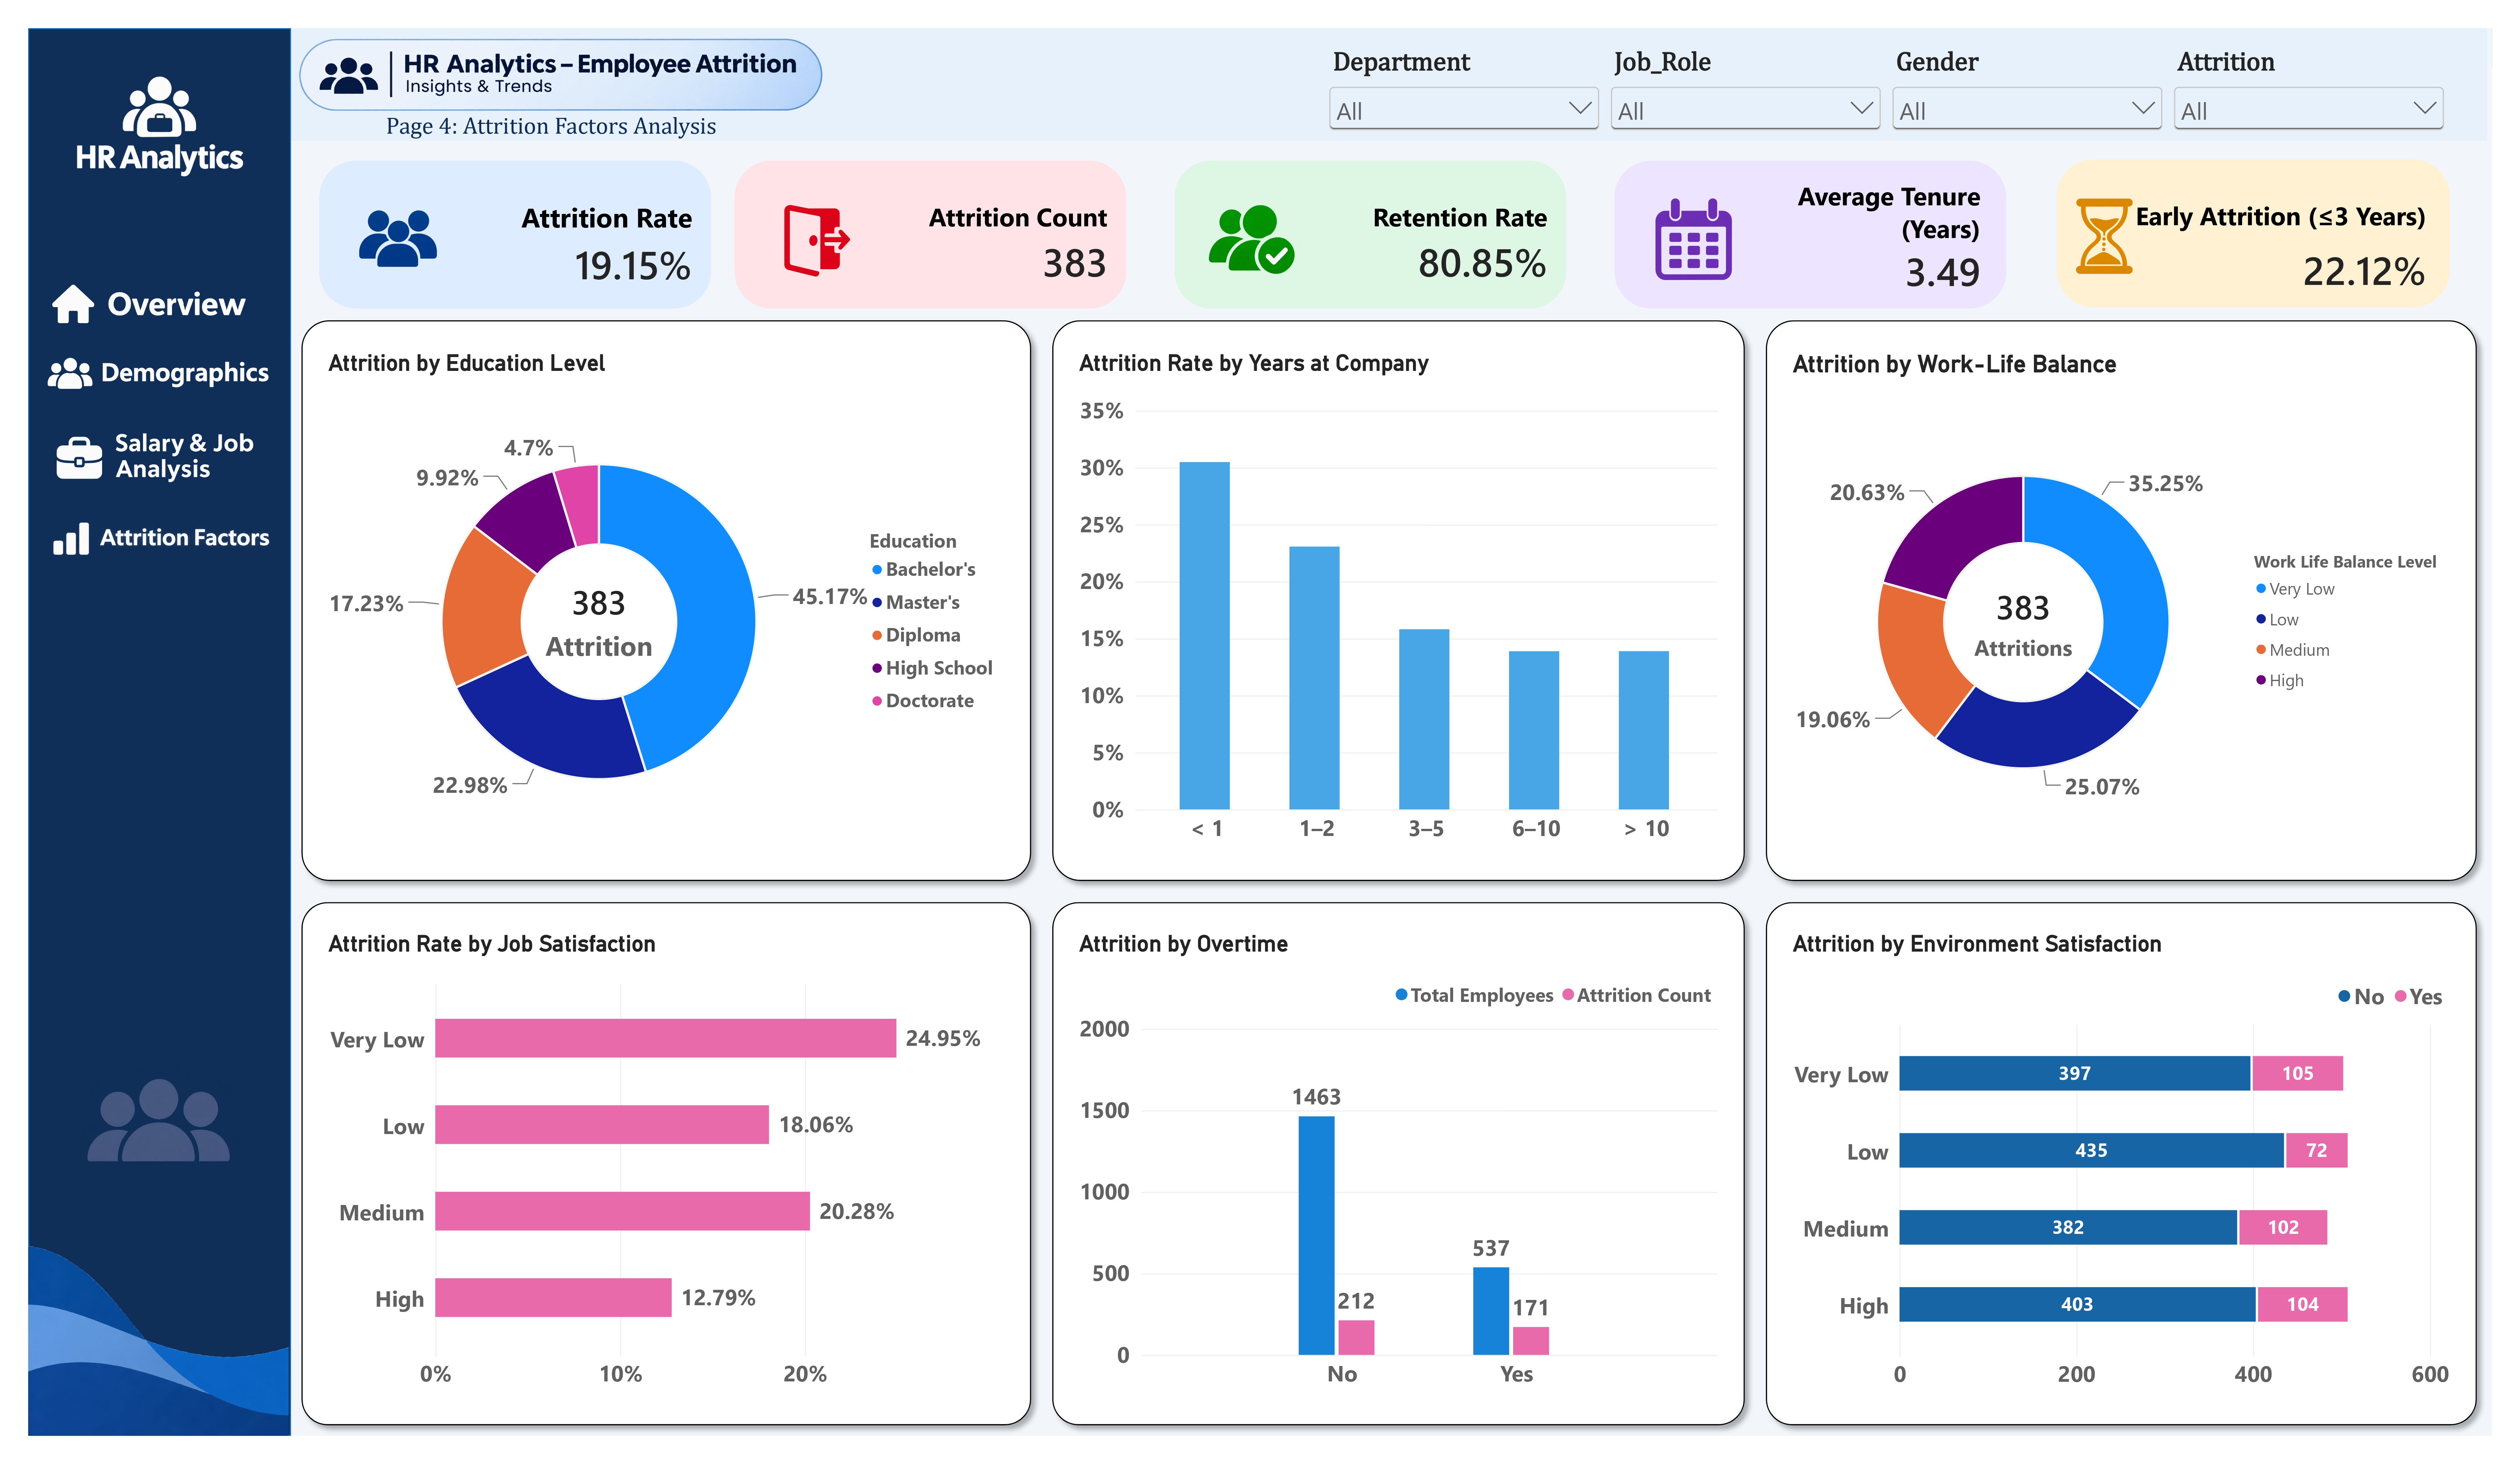

The page's visual inventory and layout, read from the dashboard file:
{"tool":"powerbi","page":{"name":"Attrition Factors","canvas":[2100,1200],"ordinal":3},"visuals":[{"type":"shape","box":[0,0,224,1200],"z":0,"group":"g1"},{"type":"shape","box":[224,0,1872,96],"z":0},{"type":"shape","box":[1729.8,112,334.3,126],"z":0,"group":"g14"},{"type":"shape","box":[247.9,113,334.3,126],"z":0,"group":"g5"},{"type":"shape","box":[602.1,113,334.3,126],"z":0,"group":"g8"},{"type":"shape","box":[977.2,113,334.3,126],"z":0,"group":"g10"},{"type":"shape","box":[1352.3,113,334.3,126],"z":0,"group":"g12"},{"type":"image","box":[0,200,222.5,70],"z":0,"group":"g7"},{"type":"image","box":[0,0,224,160],"z":1000,"group":"g1"},{"type":"image","box":[226,4,456,72],"z":1000},{"type":"cardVisual","fields":{"Data":["HR_Employee_Data.Average Years at Company"]},"box":[1408.4,113,272,127],"z":1000,"group":"g12"},{"type":"cardVisual","fields":{"Data":["HR_Employee_Data.Early Tenure Attrition Rate"]},"box":[1726.7,130,333.4,90],"z":1000,"group":"g14"},{"type":"cardVisual","fields":{"Data":["HR_Employee_Data.Attrition Rate"]},"box":[319.5,131,262.6,90],"z":1000,"group":"g5"},{"type":"cardVisual","fields":{"Data":["HR_Employee_Data.Attrition Count"]},"box":[673.7,131,262.6,90],"z":1000,"group":"g8"},{"type":"cardVisual","fields":{"Data":["HR_Employee_Data.Retention Rate"]},"box":[1024.9,131,286.5,90],"z":1000,"group":"g10"},{"type":"image","box":[0,260,222.5,70],"z":1000,"group":"g7"},{"type":"textbox","title":"Page 4: Attrition Factors Analysis","box":[305,73,300,24],"z":2000},{"type":"image","box":[224,129,183,100],"z":2000,"group":"g5"},{"type":"image","box":[578.2,129,188,100],"z":2000,"group":"g8"},{"type":"image","box":[953.3,129,183,100],"z":2000,"group":"g10"},{"type":"image","box":[1328.4,129,183,100],"z":2000,"group":"g12"},{"type":"image","box":[1691.4,130.1,159.2,90.7],"z":2000,"group":"g14"},{"type":"image","box":[0,330,222.5,70],"z":2000,"group":"g7"},{"type":"image","box":[0,848,224,160],"z":2000,"group":"g1"},{"type":"group","id":"g1","title":"Group 2","box":[0,0,224,1208],"z":3000},{"type":"slicer","fields":{"Values":["HR_Employee_Data.Department"]},"box":[1104,16,240,96],"z":3000,"group":"g3"},{"type":"image","box":[0,400,222.5,70],"z":3000,"group":"g7"},{"type":"image","box":[0,912,222,296],"z":3000,"group":"g1"},{"type":"slicer","fields":{"Values":["HR_Employee_Data.Job_Role"]},"box":[1344,16,240,96],"z":4000,"group":"g3"},{"type":"group","id":"g2","title":"Group 6","box":[224,112,1840,128],"z":4000},{"type":"group","id":"g3","title":"Group 9","box":[1104,16,960,96],"z":5000},{"type":"slicer","fields":{"Values":["HR_Employee_Data.Gender"]},"box":[1584,16,240,96],"z":5000,"group":"g3"},{"type":"shape","box":[224,240,640,496],"z":5500,"group":"g9"},{"type":"shape","box":[864,240,608,496],"z":5500,"group":"g11"},{"type":"shape","box":[224,736,640,464],"z":5500,"group":"g13"},{"type":"shape","box":[864,736,608,464],"z":5500,"group":"g15"},{"type":"slicer","fields":{"Values":["HR_Employee_Data.Attrition"]},"box":[1824,16,240,96],"z":6000,"group":"g3"},{"type":"donutChart","title":"Attrition by Education Level","fields":{"Category":["HR_Employee_Data.Education"],"Y":["HR_Employee_Data.Attrition Count"]},"box":[240,259.8,608,456.3],"z":6000,"group":"g9"},{"type":"group","id":"g4","title":"Group 7","box":[224,736,1872,464],"z":6000},{"type":"shape","box":[1472,736,624,464],"z":6000,"group":"g16"},{"type":"clusteredBarChart","title":"Attrition Rate by Job Satisfaction","fields":{"Category":["HR_Employee_Data.Job Satisfaction Level"],"Y":["HR_Employee_Data.Attrition Rate"]},"box":[240,754.6,608,426.9],"z":6000,"group":"g13"},{"type":"clusteredColumnChart","title":"Attrition Rate by Years at Company","fields":{"Category":["HR_Employee_Data.Tenure Group"],"Y":["HR_Employee_Data.Attrition Rate"]},"box":[880,259.8,576,456.3],"z":6002,"group":"g11"},{"type":"clusteredColumnChart","title":"Attrition by Overtime","fields":{"Category":["HR_Employee_Data.Overtime"],"Y":["HR_Employee_Data.Total Employees","HR_Employee_Data.Attrition Count"]},"box":[880,754.6,576,426.9],"z":6002,"group":"g15"},{"type":"group","id":"g5","title":"Group 1","box":[224,113,358.1,126],"z":7000,"group":"g2"},{"type":"group","id":"g6","title":"Group 10","box":[224,240,1872,496],"z":7000},{"type":"shape","box":[1472,240,624,496],"z":7000,"group":"g17"},{"type":"group","id":"g7","title":"Group 10","box":[0,200,222.5,270],"z":7001},{"type":"group","id":"g8","title":"Group 1","box":[578.2,113,358.1,126],"z":8000,"group":"g2"},{"type":"group","id":"g9","title":"Group 3","box":[224,240,640,496],"z":8000,"group":"g6"},{"type":"group","id":"g10","title":"Group 1","box":[953.3,113,358.1,126],"z":9000,"group":"g2"},{"type":"group","id":"g11","title":"Group 4","box":[864,240,608,496],"z":9000,"group":"g6"},{"type":"group","id":"g12","title":"Group 1","box":[1328.4,113,358.1,127],"z":10000,"group":"g2"},{"type":"group","id":"g13","title":"Group 3","box":[224,736,640,464],"z":10000,"group":"g4"},{"type":"group","id":"g14","title":"Group 1","box":[1691.4,112,372.6,126],"z":11000,"group":"g2"},{"type":"group","id":"g15","title":"Group 4","box":[864,736,608,464],"z":11000,"group":"g4"},{"type":"barChart","title":"Attrition by Environment Satisfaction","fields":{"Category":["HR_Employee_Data.Environment Satisfaction Level"],"Series":["HR_Employee_Data.Attrition"],"Y":["CountNonNull(HR_Employee_Data.Employee_ID)"]},"box":[1488,754.6,592,426.9],"z":12000,"group":"g16"},{"type":"donutChart","title":"Attrition by Work-Life Balance","fields":{"Category":["HR_Employee_Data.Work Life Balance Level"],"Y":["HR_Employee_Data.Attrition Count"]},"box":[1488,259.8,592,456.3],"z":13000,"group":"g17"},{"type":"group","id":"g16","title":"Group 5","box":[1472,736,624,464],"z":13001,"group":"g4"},{"type":"group","id":"g17","title":"Group 8","box":[1472,240,624,496],"z":13003,"group":"g6"}]}

Visuals, with their boxes on the page's 2100x1200 design canvas (x1, y1, x2, y2). These are canvas units, not pixel positions in the 2520x1464 screenshot, which may show the page scaled, cropped or inside an application window:
shape: select_region(0, 0, 224, 1200)
shape: select_region(224, 0, 2096, 96)
shape: select_region(1730, 112, 2064, 238)
shape: select_region(248, 113, 582, 239)
shape: select_region(602, 113, 936, 239)
shape: select_region(977, 113, 1312, 239)
shape: select_region(1352, 113, 1687, 239)
image: select_region(0, 200, 222, 270)
image: select_region(0, 0, 224, 160)
image: select_region(226, 4, 682, 76)
cardVisual - HR_Employee_Data.Average Years at Company: select_region(1408, 113, 1680, 240)
cardVisual - HR_Employee_Data.Early Tenure Attrition Rate: select_region(1727, 130, 2060, 220)
cardVisual - HR_Employee_Data.Attrition Rate: select_region(320, 131, 582, 221)
cardVisual - HR_Employee_Data.Attrition Count: select_region(674, 131, 936, 221)
cardVisual - HR_Employee_Data.Retention Rate: select_region(1025, 131, 1311, 221)
image: select_region(0, 260, 222, 330)
"Page 4: Attrition Factors Analysis" textbox: select_region(305, 73, 605, 97)
image: select_region(224, 129, 407, 229)
image: select_region(578, 129, 766, 229)
image: select_region(953, 129, 1136, 229)
image: select_region(1328, 129, 1511, 229)
image: select_region(1691, 130, 1851, 221)
image: select_region(0, 330, 222, 400)
image: select_region(0, 848, 224, 1008)
"Group 2" group: select_region(0, 0, 224, 1208)
slicer - HR_Employee_Data.Department: select_region(1104, 16, 1344, 112)
image: select_region(0, 400, 222, 470)
image: select_region(0, 912, 222, 1208)
slicer - HR_Employee_Data.Job_Role: select_region(1344, 16, 1584, 112)
"Group 6" group: select_region(224, 112, 2064, 240)
"Group 9" group: select_region(1104, 16, 2064, 112)
slicer - HR_Employee_Data.Gender: select_region(1584, 16, 1824, 112)
shape: select_region(224, 240, 864, 736)
shape: select_region(864, 240, 1472, 736)
shape: select_region(224, 736, 864, 1200)
shape: select_region(864, 736, 1472, 1200)
slicer - HR_Employee_Data.Attrition: select_region(1824, 16, 2064, 112)
"Attrition by Education Level" donutChart: select_region(240, 260, 848, 716)
"Group 7" group: select_region(224, 736, 2096, 1200)
shape: select_region(1472, 736, 2096, 1200)
"Attrition Rate by Job Satisfaction" clusteredBarChart: select_region(240, 755, 848, 1182)
"Attrition Rate by Years at Company" clusteredColumnChart: select_region(880, 260, 1456, 716)
"Attrition by Overtime" clusteredColumnChart: select_region(880, 755, 1456, 1182)
"Group 1" group: select_region(224, 113, 582, 239)
"Group 10" group: select_region(224, 240, 2096, 736)
shape: select_region(1472, 240, 2096, 736)
"Group 10" group: select_region(0, 200, 222, 470)
"Group 1" group: select_region(578, 113, 936, 239)
"Group 3" group: select_region(224, 240, 864, 736)
"Group 1" group: select_region(953, 113, 1311, 239)
"Group 4" group: select_region(864, 240, 1472, 736)
"Group 1" group: select_region(1328, 113, 1686, 240)
"Group 3" group: select_region(224, 736, 864, 1200)
"Group 1" group: select_region(1691, 112, 2064, 238)
"Group 4" group: select_region(864, 736, 1472, 1200)
"Attrition by Environment Satisfaction" barChart: select_region(1488, 755, 2080, 1182)
"Attrition by Work-Life Balance" donutChart: select_region(1488, 260, 2080, 716)
"Group 5" group: select_region(1472, 736, 2096, 1200)
"Group 8" group: select_region(1472, 240, 2096, 736)
